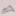microplastic: (1, 5, 15, 15)
